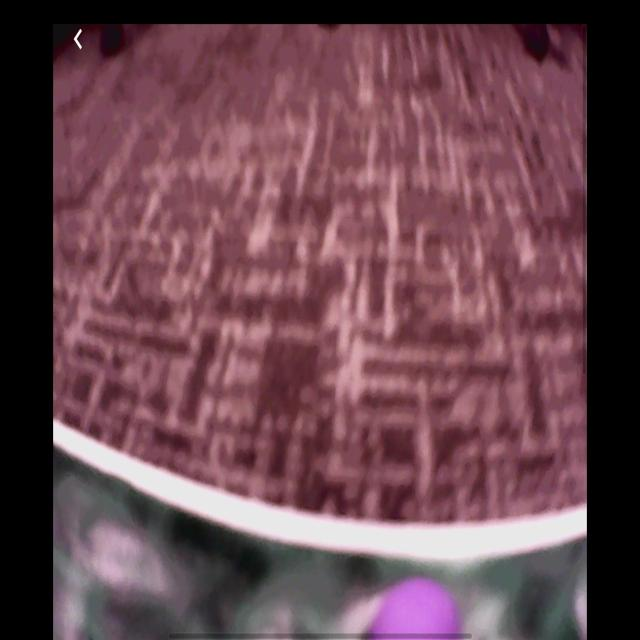ball: (369, 576, 466, 639)
